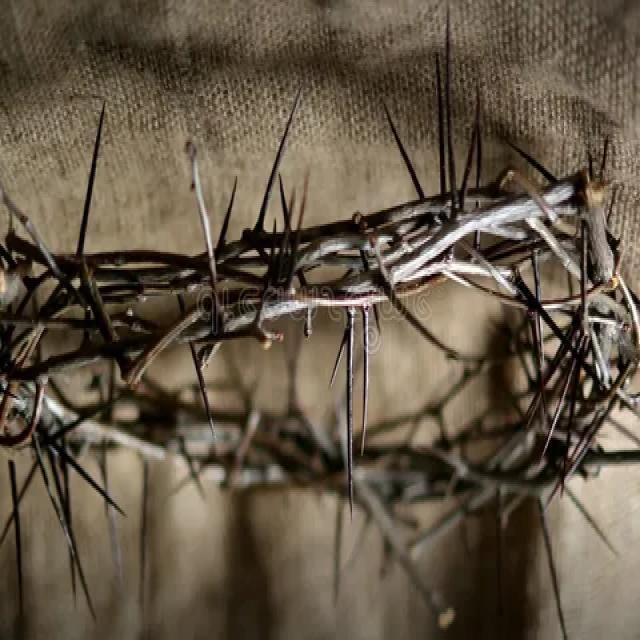crown: (0, 146, 640, 580)
